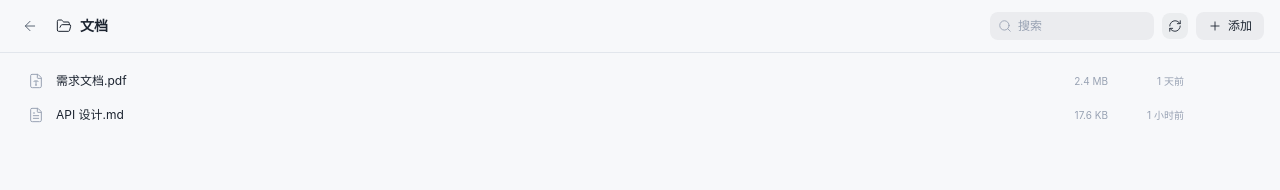
Test: DocumentsPanel 刷新 › 刷新失败时落错误提示，不把已有列表清空
The width and height of the screenshot is (1280, 190).
expect the element with test id "documents-row-需求文档.pdf" is shown: met, box [28,73,1184,89]
Click the button with test id "documents-refresh" at (1175, 26), box [1162,13,1188,39]
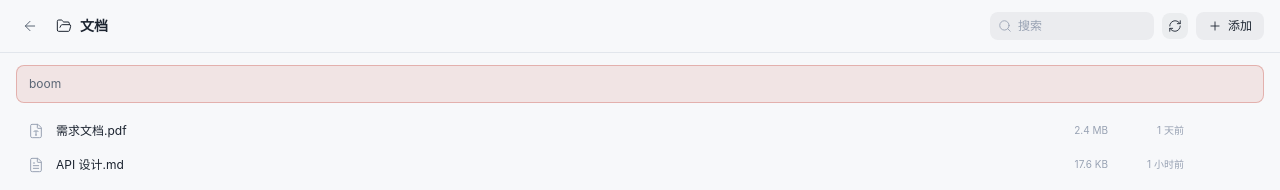
expect the element with test id "documents-row-需求文档.pdf" is shown: met, box [28,122,1184,138]
expect the text "boom" is shown: met, box [16,65,1264,102]
